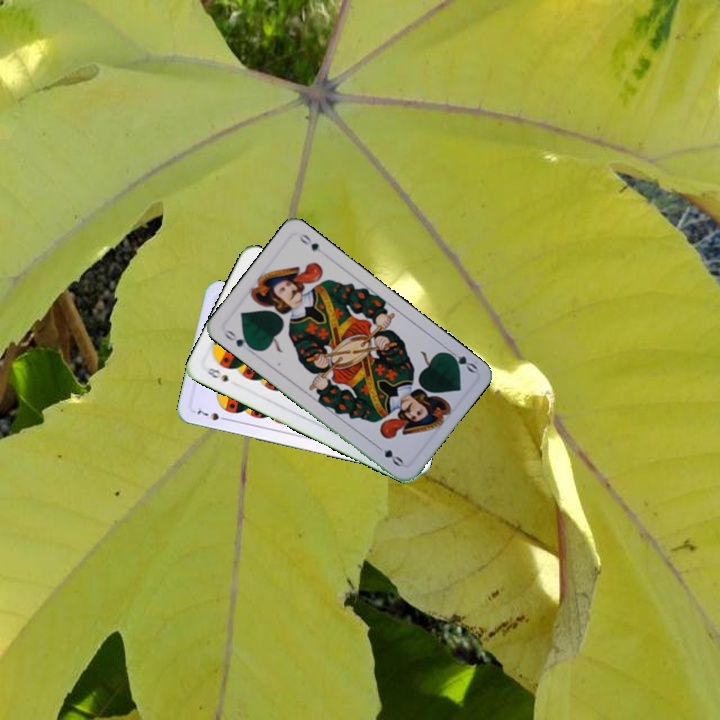GO: (442, 345, 480, 376), (220, 326, 256, 352)
S7: (192, 403, 231, 423)
S8: (203, 363, 231, 385)
